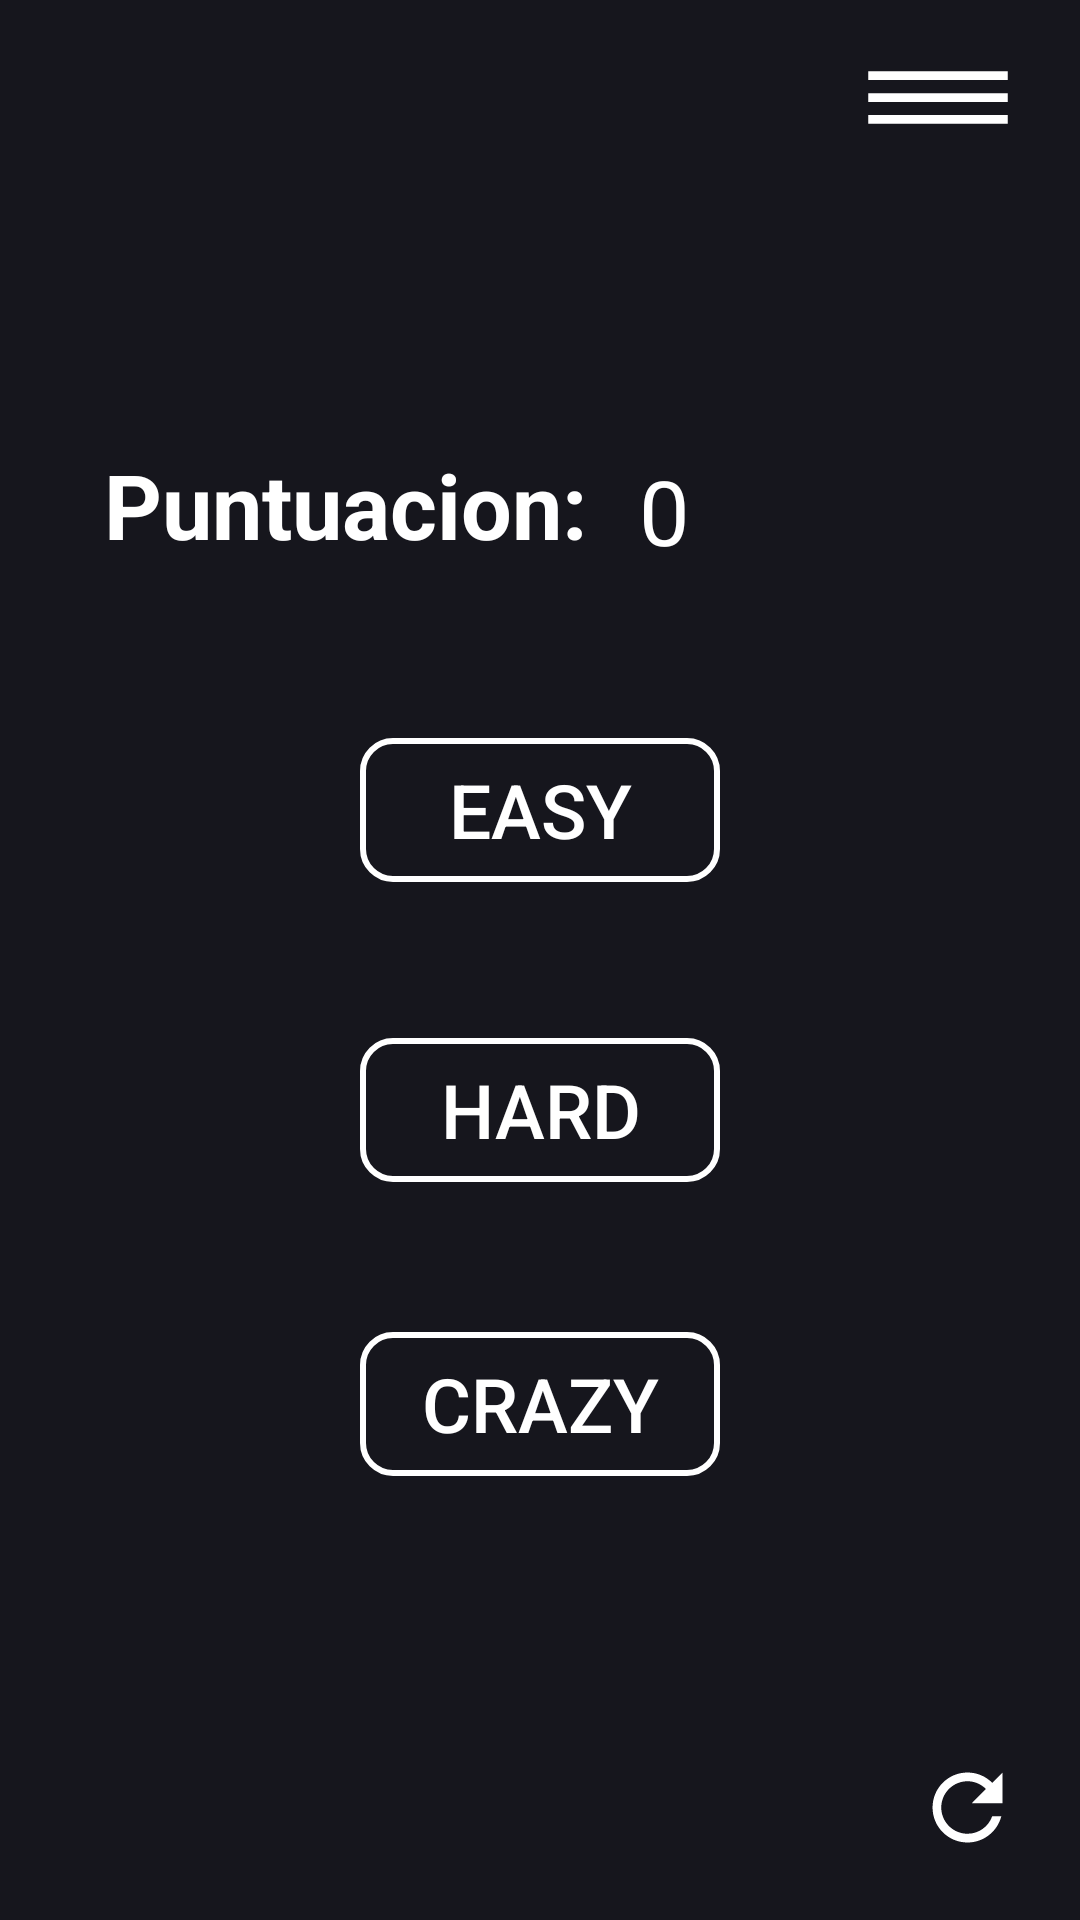

Where icons sit on this 1080px x 1920px app screen, as {"x1": x1, "y1": y1, "x2": x2, "y2": y2}:
reiniciar: {"x1": 932, "y1": 1772, "x2": 1003, "y2": 1843}
